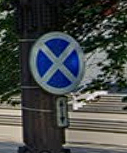oprirea_interzisa: (27, 28, 91, 98)
